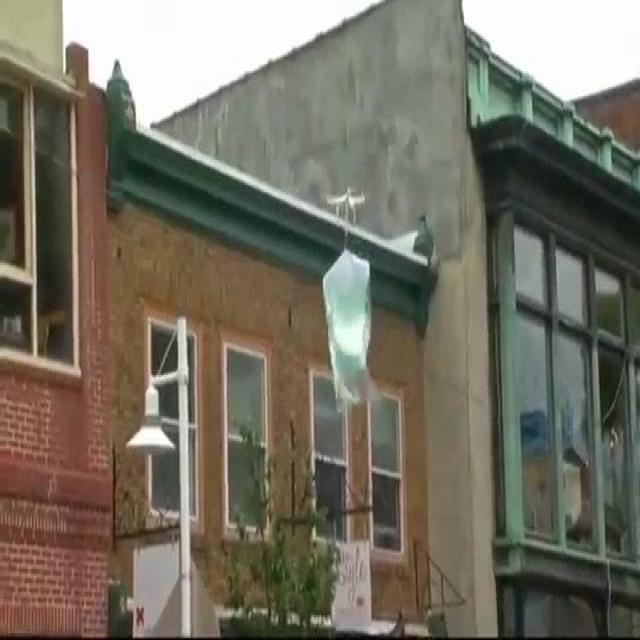drone: (325, 183, 370, 227)
